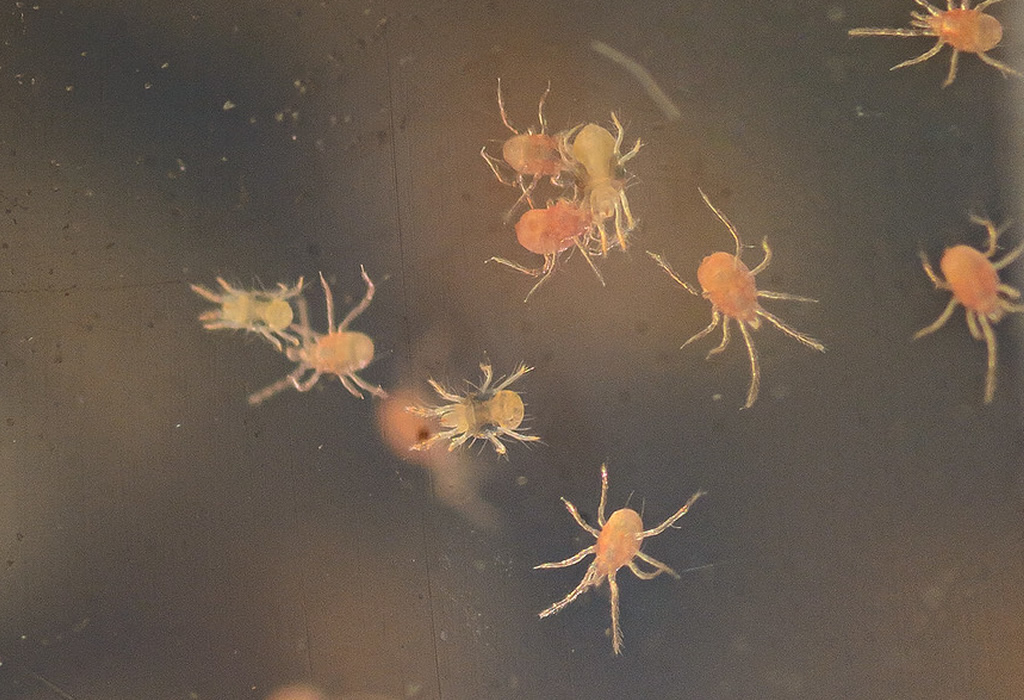Mites: (655, 151, 817, 411), (896, 193, 1024, 412), (407, 335, 555, 516), (561, 454, 670, 643), (891, 1, 1022, 139), (482, 54, 579, 199), (572, 69, 643, 258), (302, 276, 383, 405), (499, 195, 597, 278)
